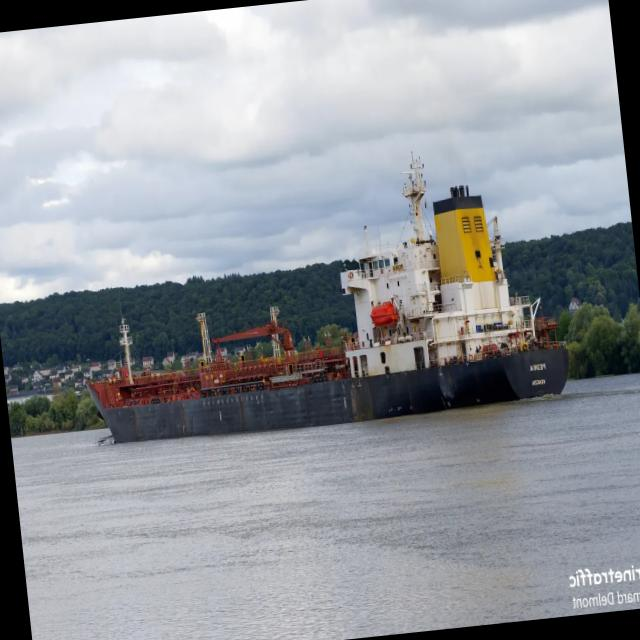Tanker: (87, 157, 569, 441)
